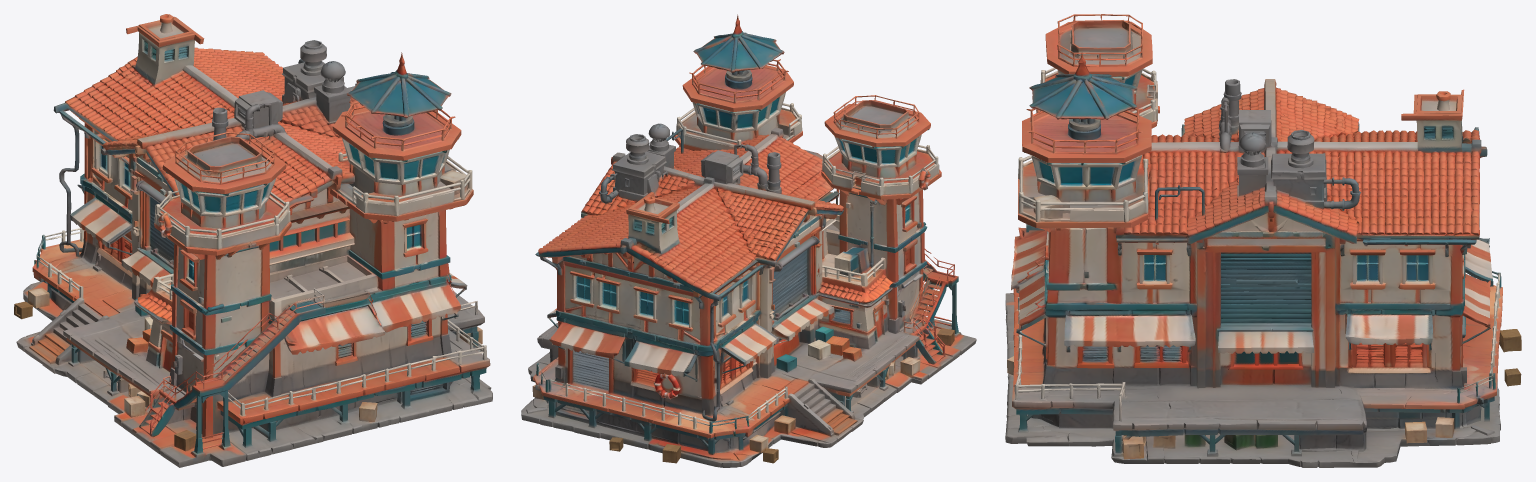
File: harbor-hq-source.glb
3 renders of one model, left to right at view 1: azimuth 30°, elevation 25°; view 2: azimuth 150°, elevation 25°; view 3: azimuth 270°, elevation 25°, orthographic. The views are drawn at different scales.
Visible parts, largest first — view 1: model; view 2: model; view 3: model.
Part boxes in pixels (left/top/right/bottom): model: left=14, top=14, right=492, bottom=467; model: left=521, top=14, right=976, bottom=467; model: left=1005, top=14, right=1521, bottom=467.
Bounding box in the file's own units: 1.61 × 1.47 × 1.89.
1 material, 1 textured.
